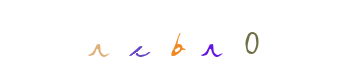0: (211, 0, 291, 80)
B: (137, 0, 217, 80)
C: (132, 0, 212, 80)
R: (112, 0, 192, 80), (138, 0, 218, 80)
